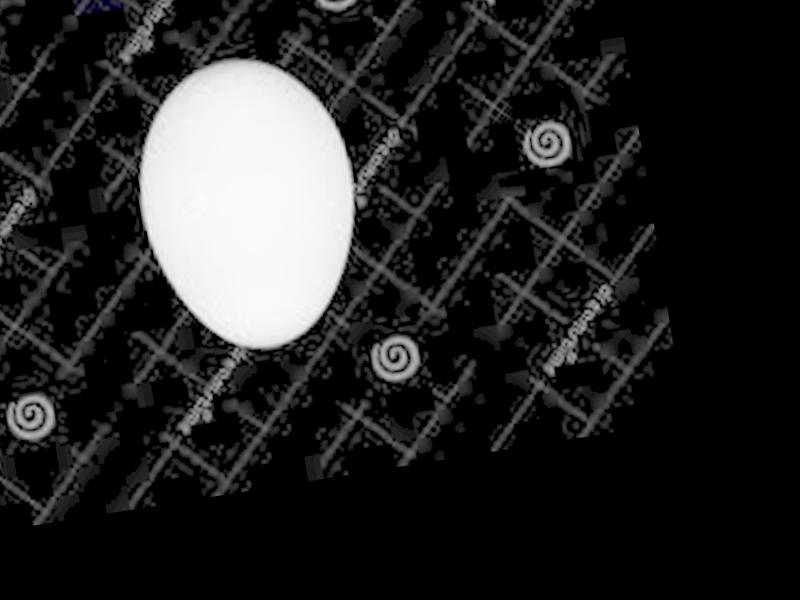Eggs: (116, 46, 373, 362)
